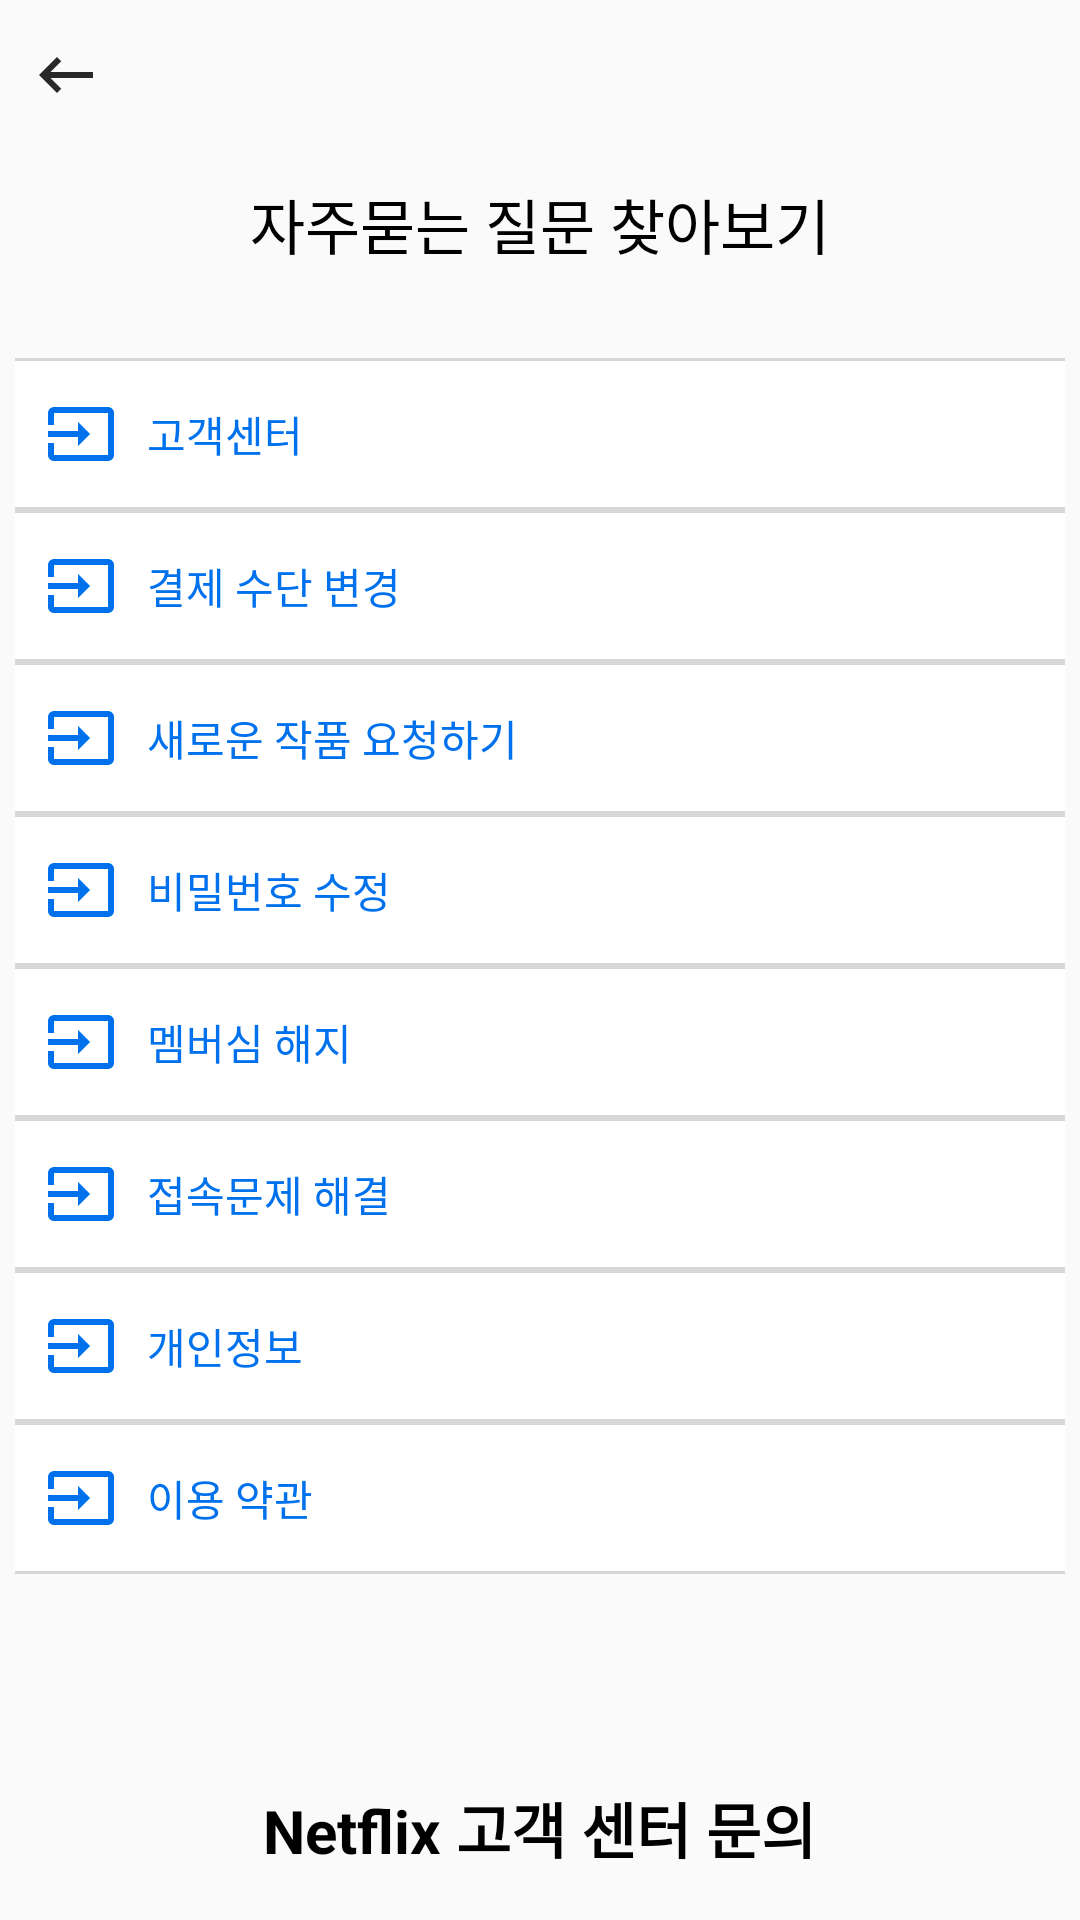

Screen size 1080w x 1920h. Icon name, then its box in pixels as (x1, y1, x2, y2):
input: (48, 407, 114, 461), (48, 559, 114, 613), (48, 711, 114, 765), (48, 863, 114, 917), (48, 1015, 114, 1069), (48, 1167, 114, 1221), (48, 1319, 114, 1373), (48, 1471, 114, 1525)
keyboard backspace: (39, 57, 93, 93)
